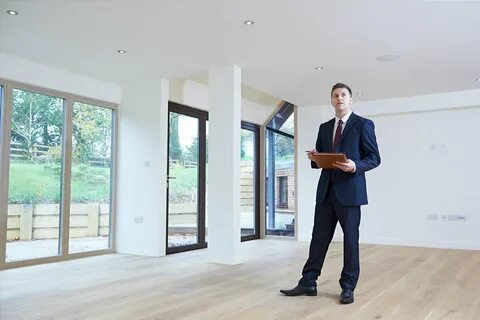awake: (279, 82, 382, 305)
